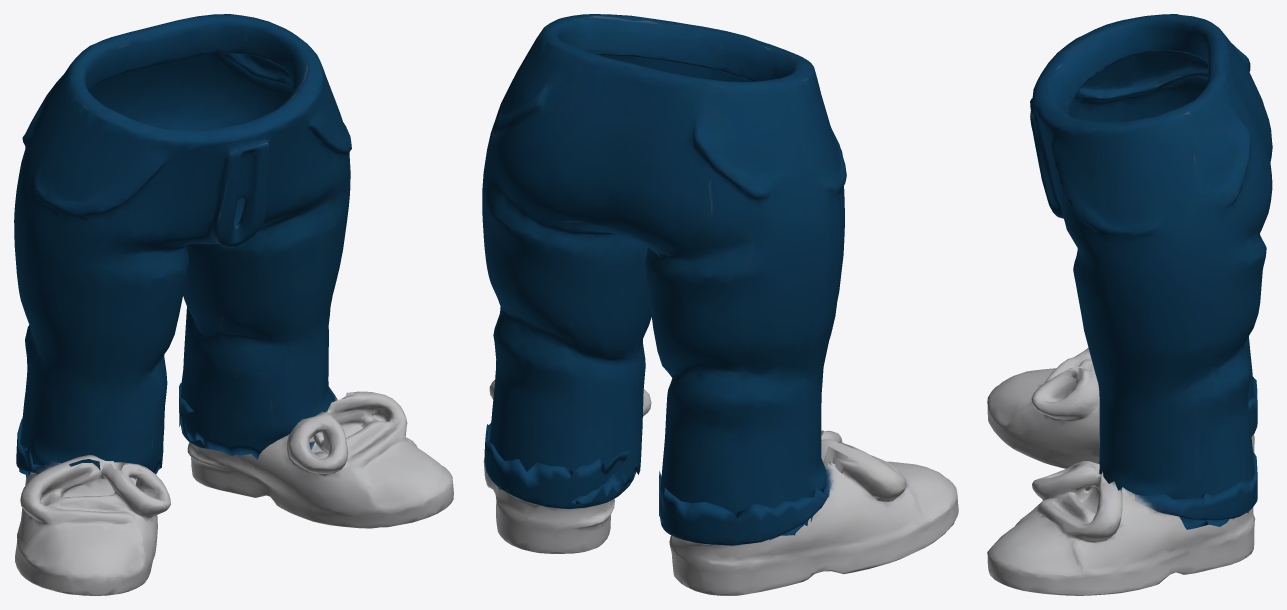
Rendered from Funko Girl Bottom.glb.
3 renders of one model, left to right at view 1: azimuth 30°, elevation 25°; view 2: azimuth 150°, elevation 25°; view 3: azimuth 270°, elevation 25°, orthographic. The views are drawn at different scales.
Parts seen in each view (by area): view 1: geometry_0.004, geometry_0.001; view 2: geometry_0.004, geometry_0.001; view 3: geometry_0.004, geometry_0.001.
Boxes of the visible parts, <box> form: geometry_0.004: <box>14,14,374,482</box>; geometry_0.001: <box>15,392,453,595</box>; geometry_0.004: <box>482,14,847,556</box>; geometry_0.001: <box>483,380,958,595</box>; geometry_0.004: <box>1030,14,1272,530</box>; geometry_0.001: <box>987,348,1255,595</box>.
Bounding box in the file's own units: 0.3629 × 0.3883 × 0.2208.
1 material, 1 textured.
